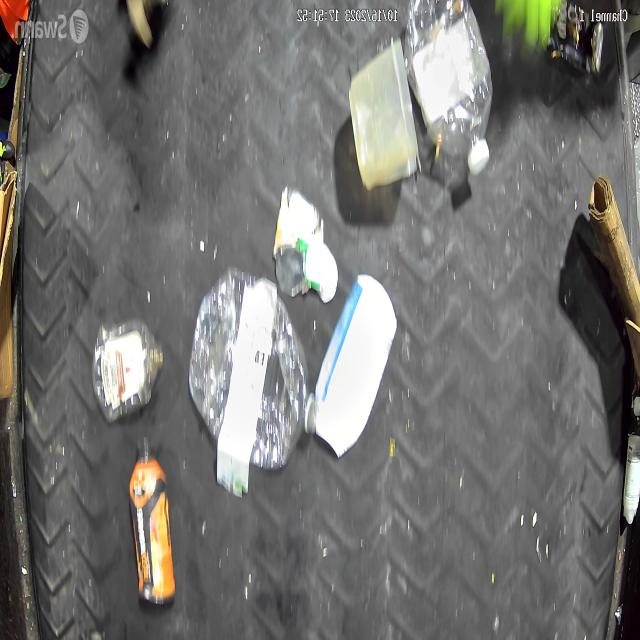can: (275, 187, 338, 303), (550, 0, 605, 74)
plastic_bottle: (188, 264, 316, 471), (404, 0, 492, 179), (128, 430, 177, 605), (93, 316, 165, 417)
